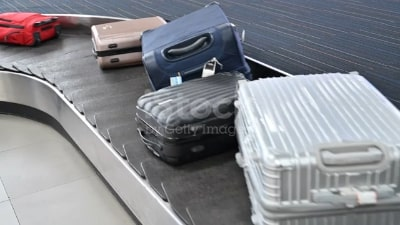baggage: (231, 69, 400, 225), (132, 71, 250, 169), (139, 4, 256, 93), (85, 13, 168, 73), (1, 8, 64, 50)
